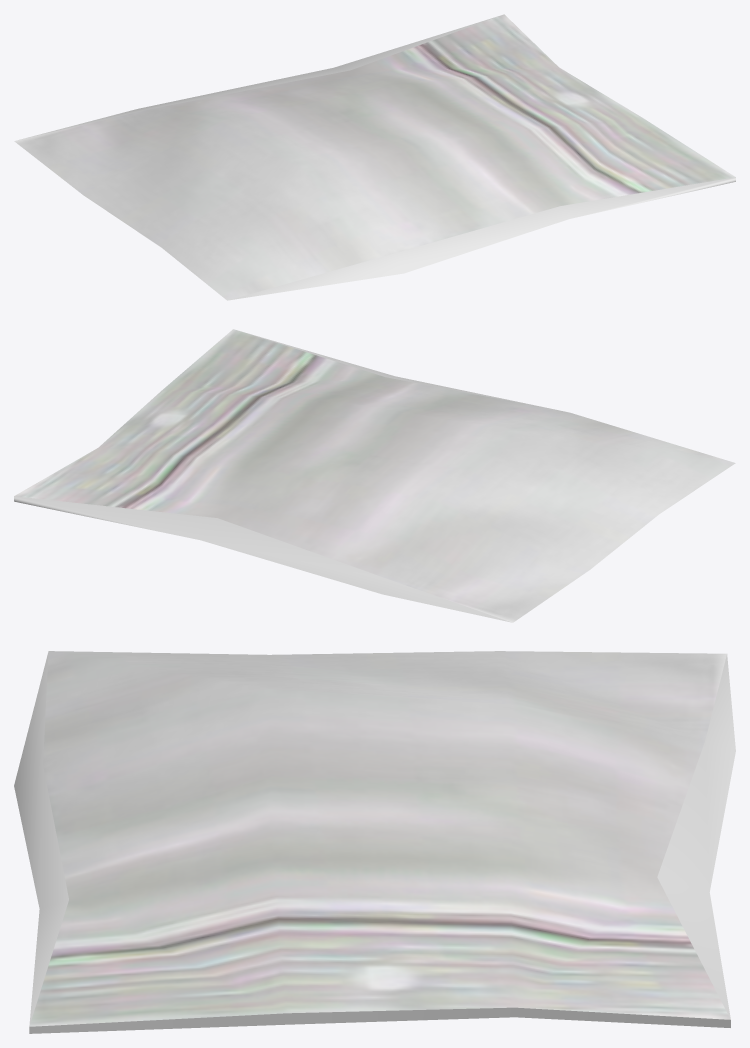
Rendered from powderPacketBlue.fbx.
3 views of the same model, one above another, from view 1: azimuth 30°, elevation 25°; view 2: azimuth 150°, elevation 25°; view 3: azimuth 270°, elevation 25° (orthographic). The views are drawn at different scales.
Parts seen in each view (by area): view 1: powderPacketBlue; view 2: powderPacketBlue; view 3: powderPacketBlue.
Part boxes in pixels (x1,y1,x2,y2): powderPacketBlue: [14, 14, 735, 300]; powderPacketBlue: [14, 329, 735, 622]; powderPacketBlue: [14, 651, 735, 1033].
Size of the model in its own units: 0.1877 by 0.0187 by 0.1491.
Materials: 1 (1 with a texture image).
